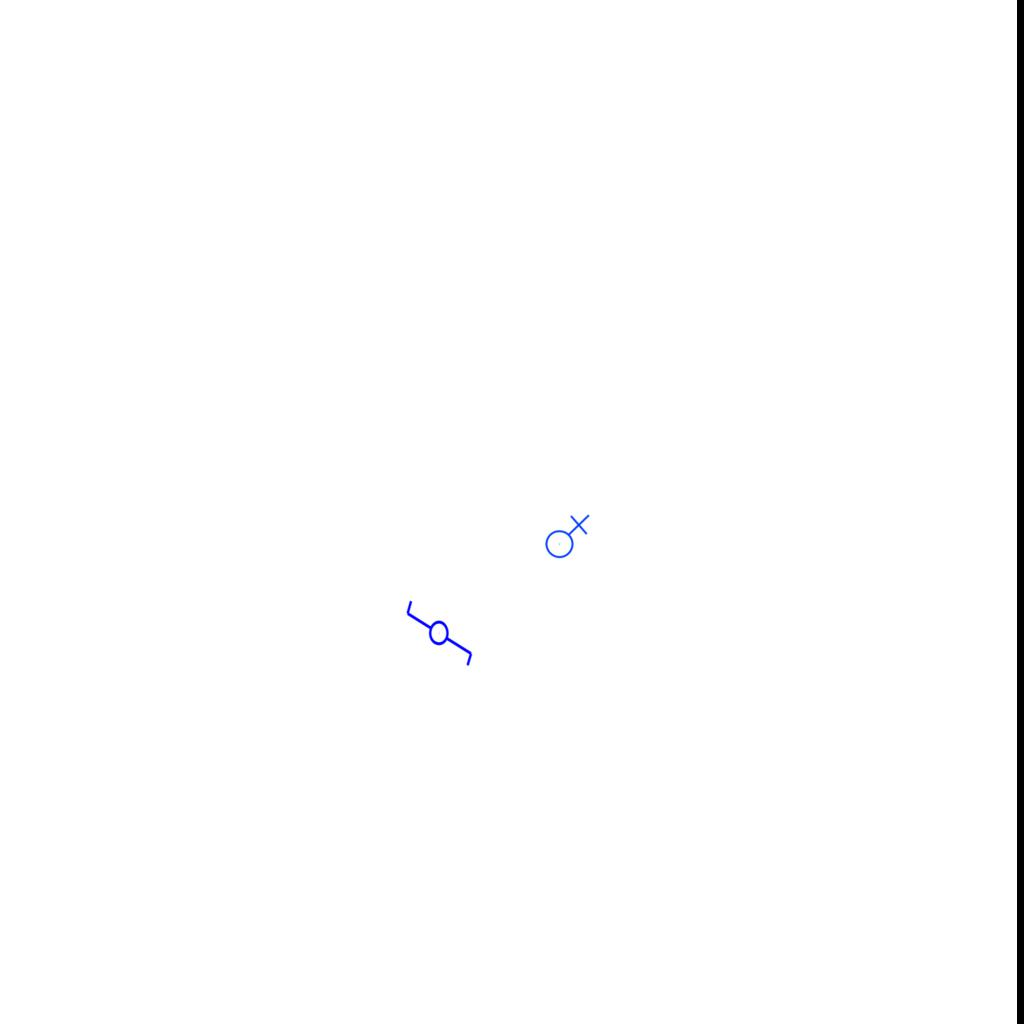Elektroanschluss_allgemein_230V_Geraeteanschlussdose_230V: (541, 512, 590, 559)
Wechselschalter: (404, 590, 476, 668)
